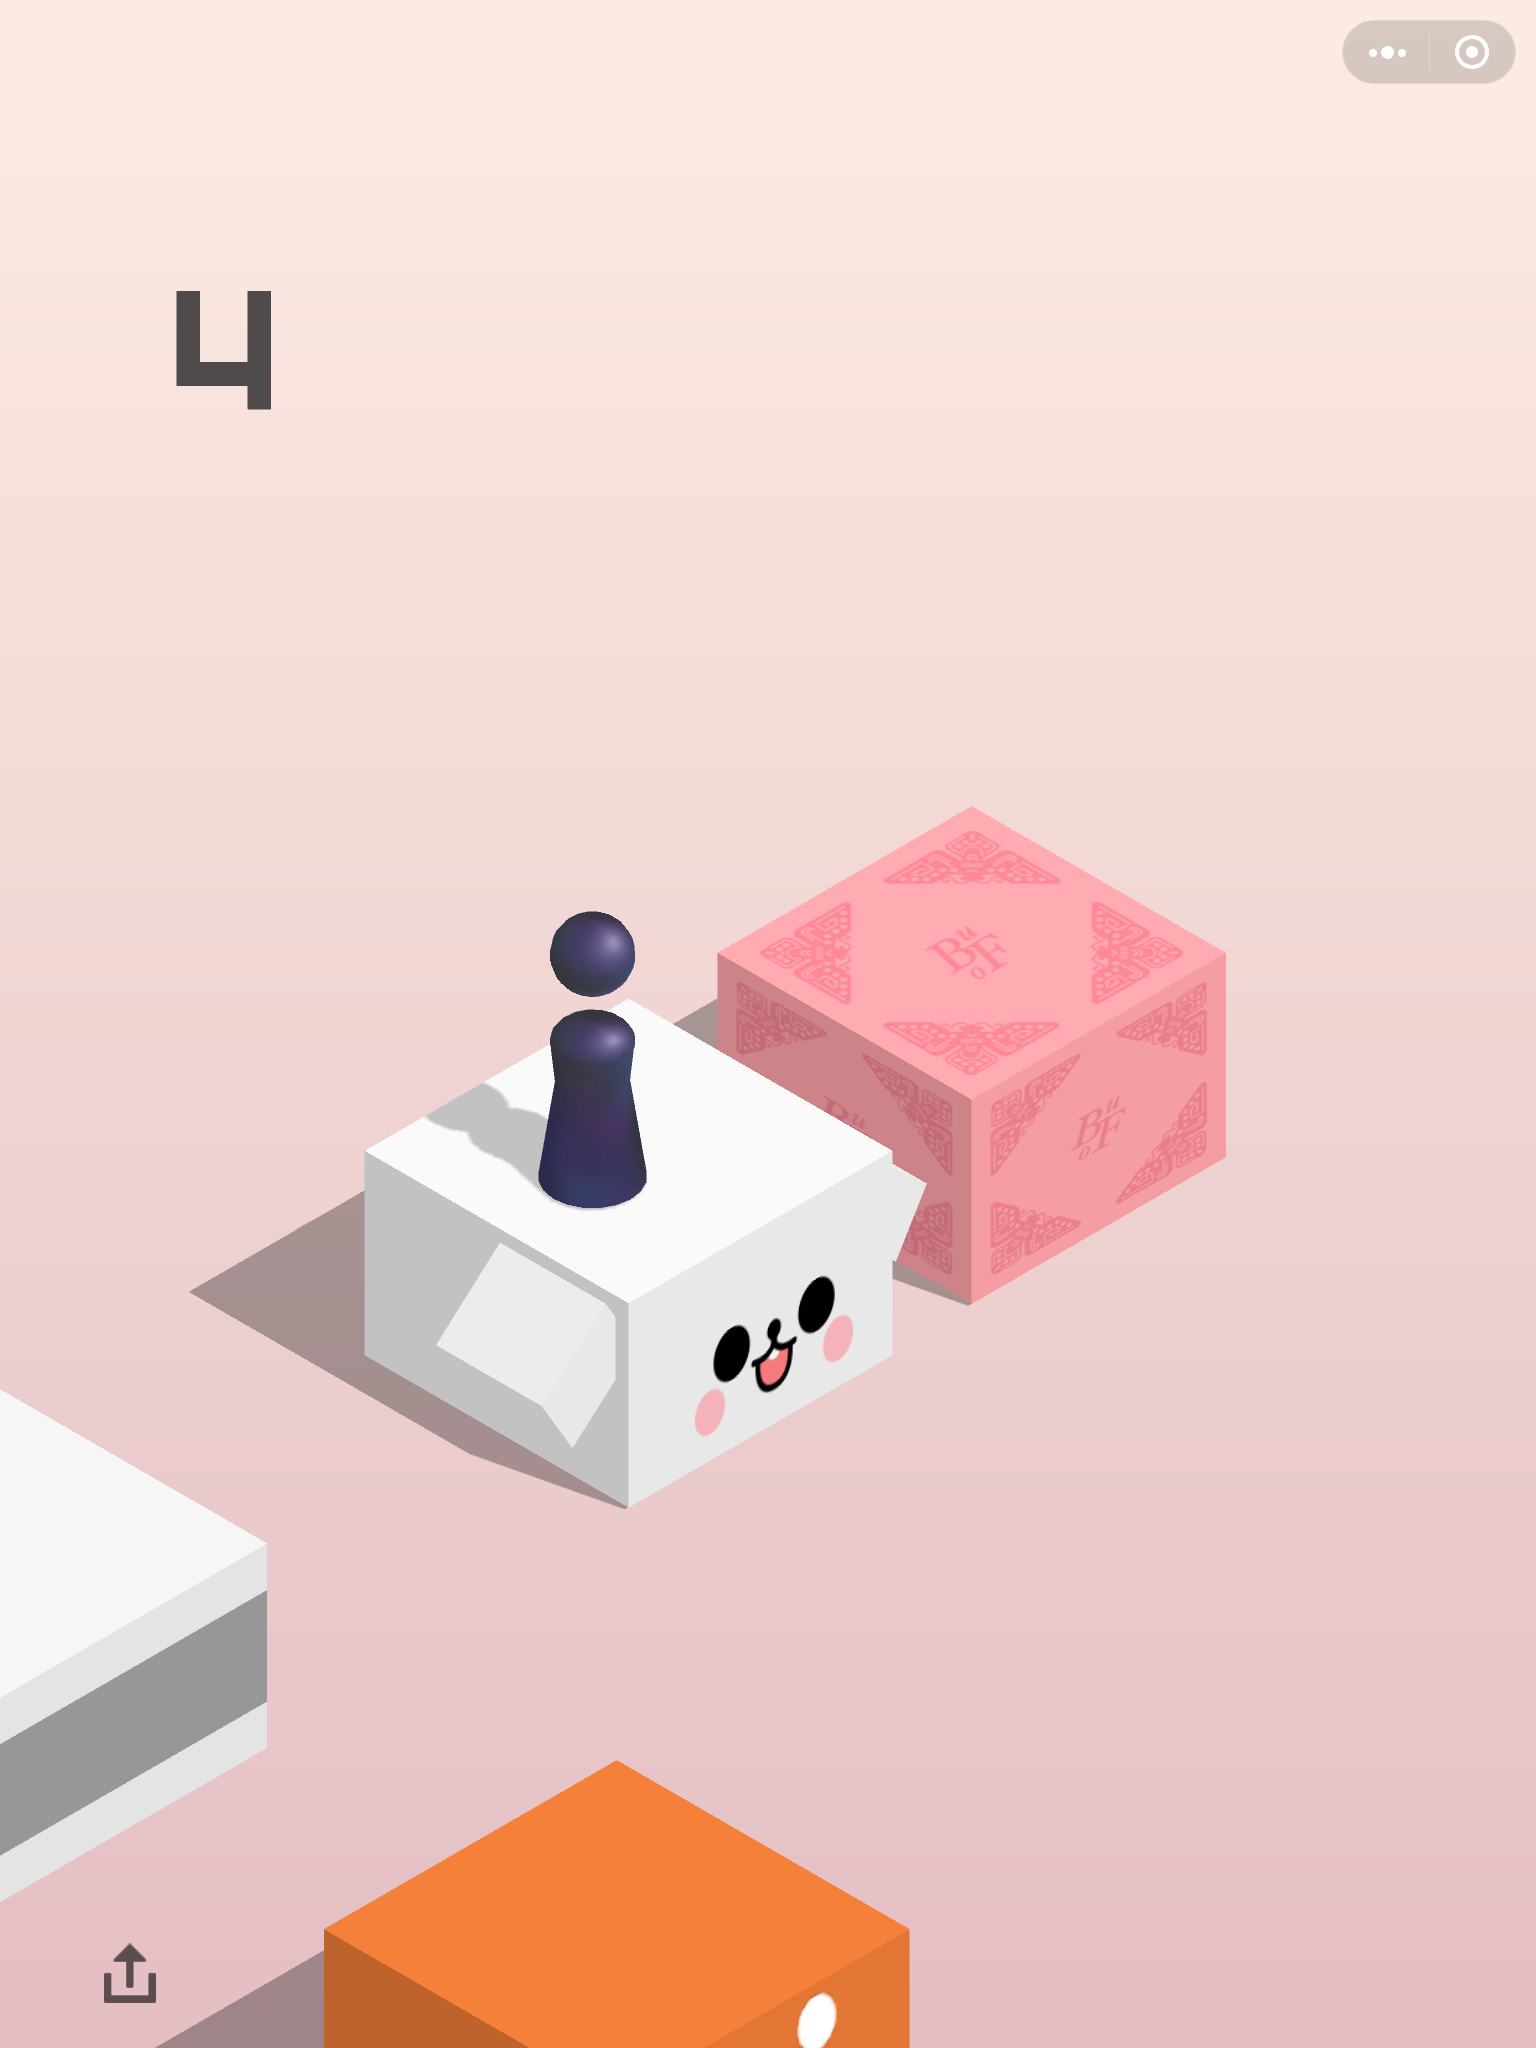f: (357, 993, 934, 1514), (712, 795, 1234, 1313), (319, 1759, 913, 2048), (2, 1380, 274, 1917)
r: (534, 905, 653, 1214)
